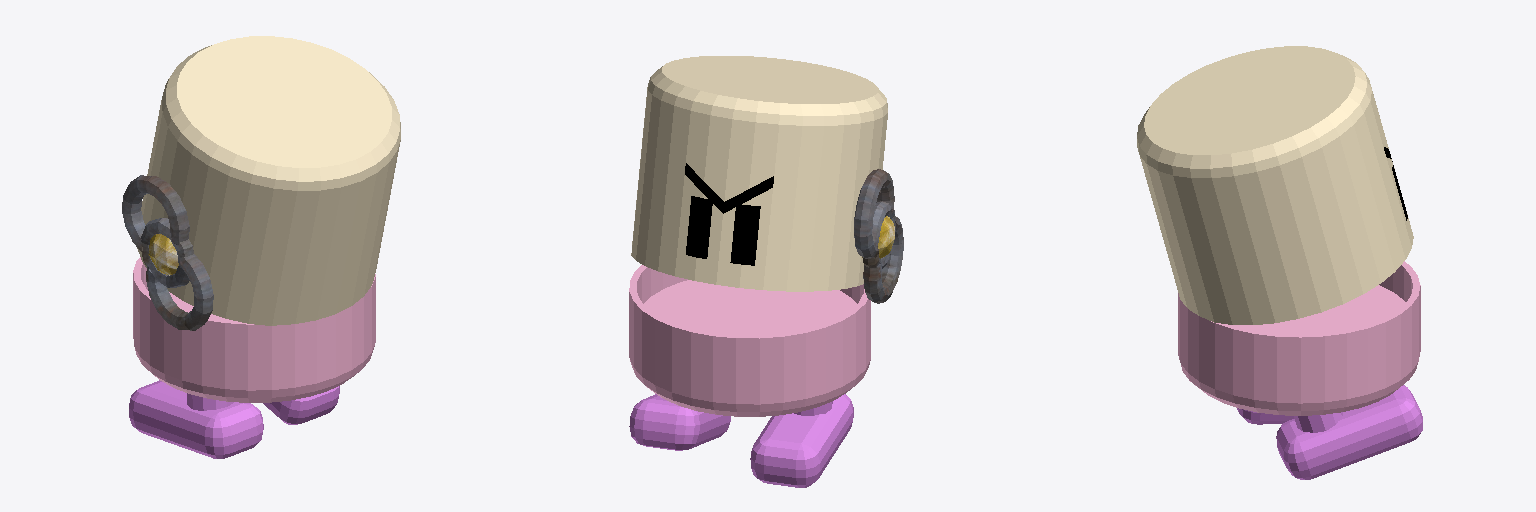
The picture shows the model from 3 angles: view 1: azimuth 30°, elevation 25°; view 2: azimuth 150°, elevation 25°; view 3: azimuth 270°, elevation 25°; orthographic projection.
Visible parts, largest first — view 1: Head, Jaw, WindupKey, LeftLeg, RightLeg; view 2: Head, Jaw, LeftLeg, WindupKey, RightLeg; view 3: Head, Jaw, RightLeg.
Boxes of the visible parts, <box> form: Head: <box>137,36,400,325</box>; Jaw: <box>133,257,375,402</box>; WindupKey: <box>122,175,213,330</box>; LeftLeg: <box>129,380,263,458</box>; RightLeg: <box>263,386,339,424</box>; Head: <box>631,56,887,291</box>; Jaw: <box>629,265,870,416</box>; LeftLeg: <box>750,394,853,487</box>; WindupKey: <box>854,169,903,303</box>; RightLeg: <box>629,394,730,450</box>; Head: <box>1137,46,1413,324</box>; Jaw: <box>1178,261,1420,415</box>; RightLeg: <box>1276,385,1422,479</box>.
Size of the model in its own units: 112 by 169 by 118.
Materials: 6 (2 with a texture image).